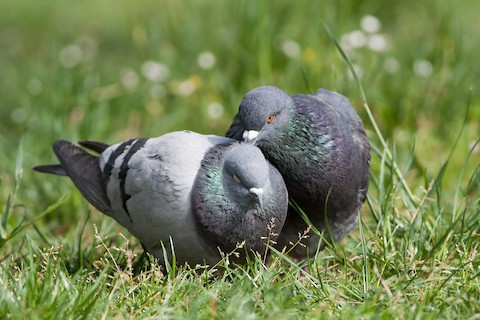pigeon: (31, 129, 291, 266), (218, 79, 380, 259)
